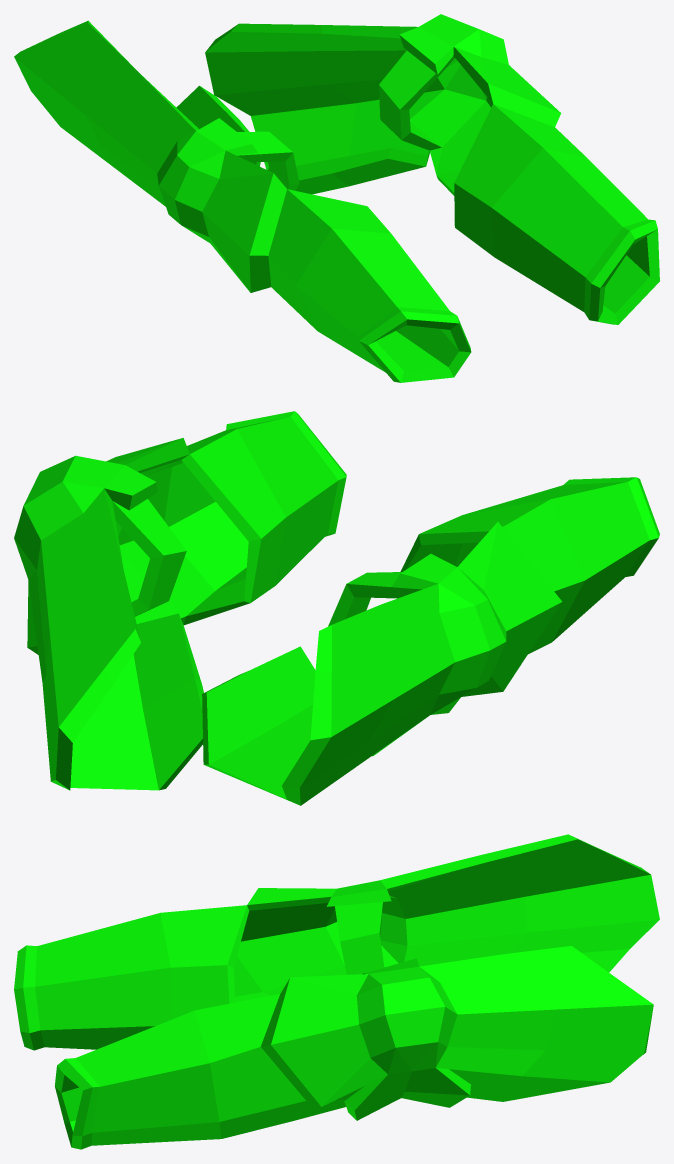
The model's file is SM_Armor_Legs_A_Placed_Fantasy.fbx.
The picture shows the model from 3 angles, top to bottom: view 1: azimuth 30°, elevation 25°; view 2: azimuth 150°, elevation 25°; view 3: azimuth 270°, elevation 25°; orthographic projection. The views are drawn at different scales.
Visible parts, largest first — view 1: armor-legs-a-placed-fantasy; view 2: armor-legs-a-placed-fantasy; view 3: armor-legs-a-placed-fantasy.
Part boxes in pixels (bbox=[...]): armor-legs-a-placed-fantasy: bbox=[14, 14, 659, 382]; armor-legs-a-placed-fantasy: bbox=[14, 411, 659, 805]; armor-legs-a-placed-fantasy: bbox=[14, 834, 659, 1149].
Size of the model in its own units: 0.5178 by 0.262 by 0.8099.
